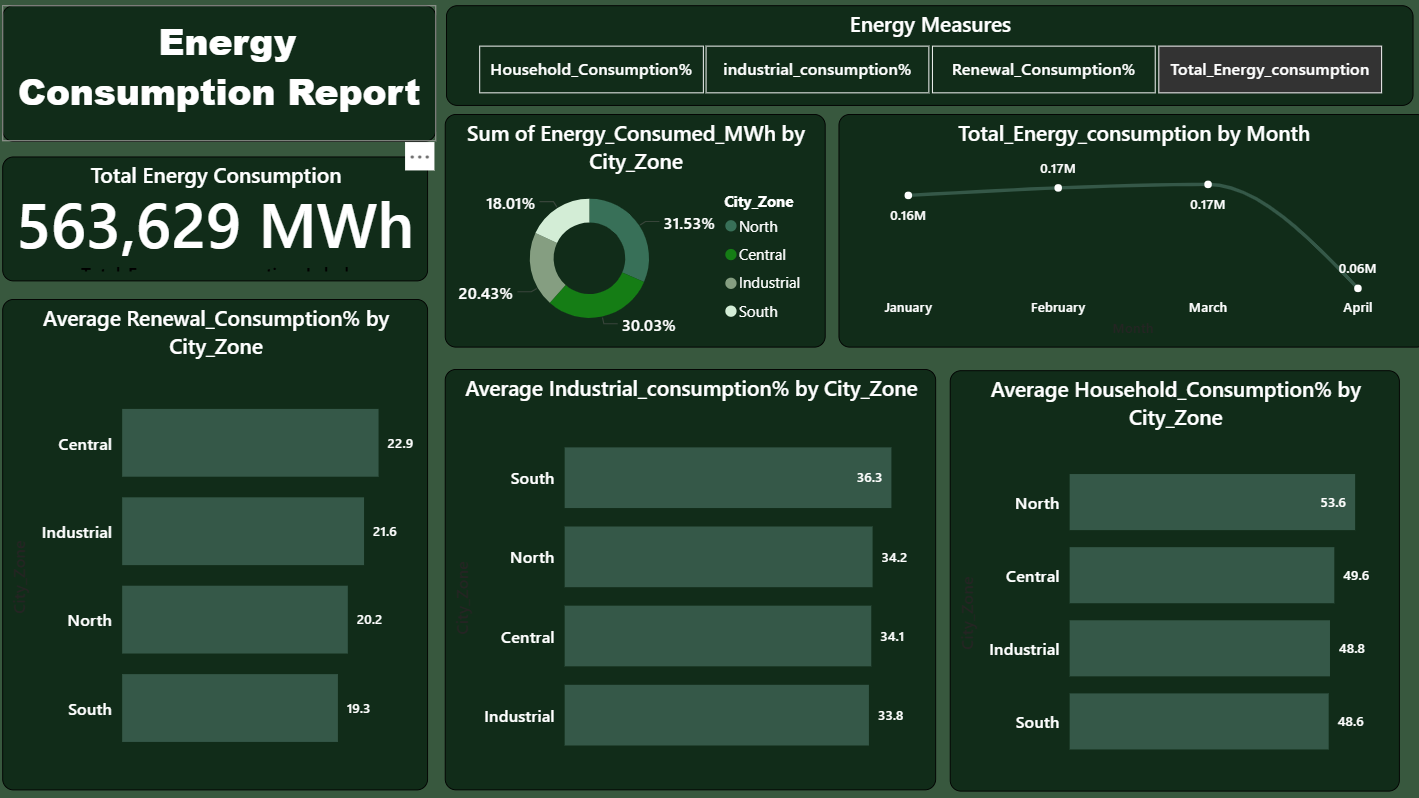

The page's visual inventory and layout, read from the dashboard file:
{"tool":"powerbi","page":{"name":"Energy_Report","canvas":[1280,720],"ordinal":3},"visuals":[{"type":"card","title":"Total Energy Consumption","fields":{"Values":["Energy_Measure.Total_Energy_consumption_Label"]},"box":[10.1,144.8,379.3,111.5],"z":0},{"type":"clusteredBarChart","title":"Average Household_Consumption% by City_Zone","fields":{"Category":["Enegry_Consumption.City_Zone"],"Y":["Energy_Measure.House_hold%"]},"box":[854.1,334.7,401.1,375.1],"z":1000},{"type":"clusteredBarChart","title":"Average Renewal_Consumption% by City_Zone","fields":{"Y":["Energy_Measure.Renewal_use%"],"Category":["Enegry_Consumption.City_Zone"]},"box":[10.2,271.4,379.4,437.8],"z":2000},{"type":"clusteredBarChart","title":"Average Industrial_consumption% by City_Zone","fields":{"Category":["Enegry_Consumption.City_Zone"],"Y":["Energy_Measure.industrial_consumption%"]},"box":[404.2,334.2,437.8,375],"z":3000},{"type":"lineChart","fields":{"Y":["Energy_Measure.Total_Energy_consumption"],"Category":["Enegry_Consumption.Date.Variation.Date Hierarchy.Month","Enegry_Consumption.Date.Variation.Date Hierarchy.Day"]},"box":[754.6,106.8,525.2,207.8],"z":4000},{"type":"textbox","box":[10.1,10.1,386.5,121.6],"z":5000},{"type":"slicer","title":"Energy Measures","fields":{"Values":["Measure_all_Consumption.measure"]},"box":[405.3,10.1,861.4,89.8],"z":6000},{"type":"donutChart","fields":{"Category":["Enegry_Consumption.City_Zone"],"Y":["Sum(Enegry_Consumption.Energy_Consumed_MWh)"]},"box":[404,106.8,339,207.8],"z":7000}]}

Visuals, with their boxes in screenshot pixels (x1, y1, x2, y2), scaled from the page's 1280x720 canvas onto the 1419x798 screenshot:
"Total Energy Consumption" card: <region>11, 160, 432, 284</region>
"Average Household_Consumption% by City_Zone" clusteredBarChart: <region>947, 371, 1392, 787</region>
"Average Renewal_Consumption% by City_Zone" clusteredBarChart: <region>11, 301, 432, 786</region>
"Average Industrial_consumption% by City_Zone" clusteredBarChart: <region>448, 370, 933, 786</region>
lineChart - Energy_Measure.Total_Energy_consumption x Enegry_Consumption.Date.Variation.Date Hierarchy.Month: <region>837, 118, 1418, 349</region>
textbox: <region>11, 11, 440, 146</region>
"Energy Measures" slicer: <region>449, 11, 1404, 111</region>
donutChart - Enegry_Consumption.City_Zone x Sum(Enegry_Consumption.Energy_Consumed_MWh): <region>448, 118, 824, 349</region>
